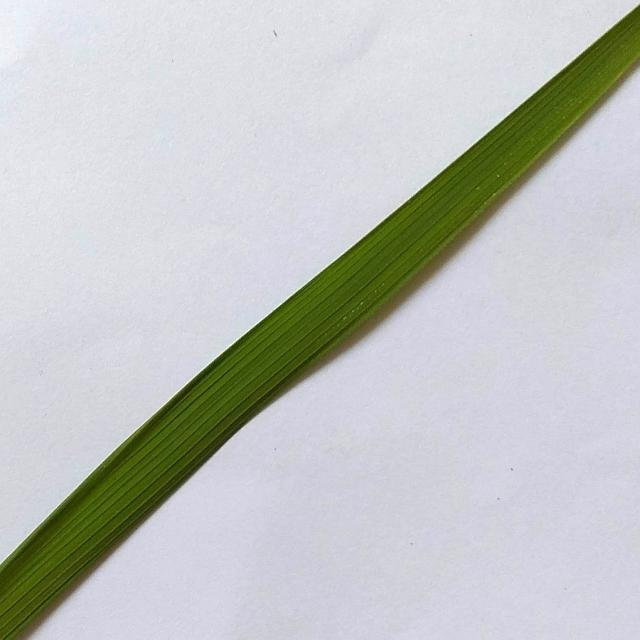Rice_Healthy: (0, 5, 640, 640)
